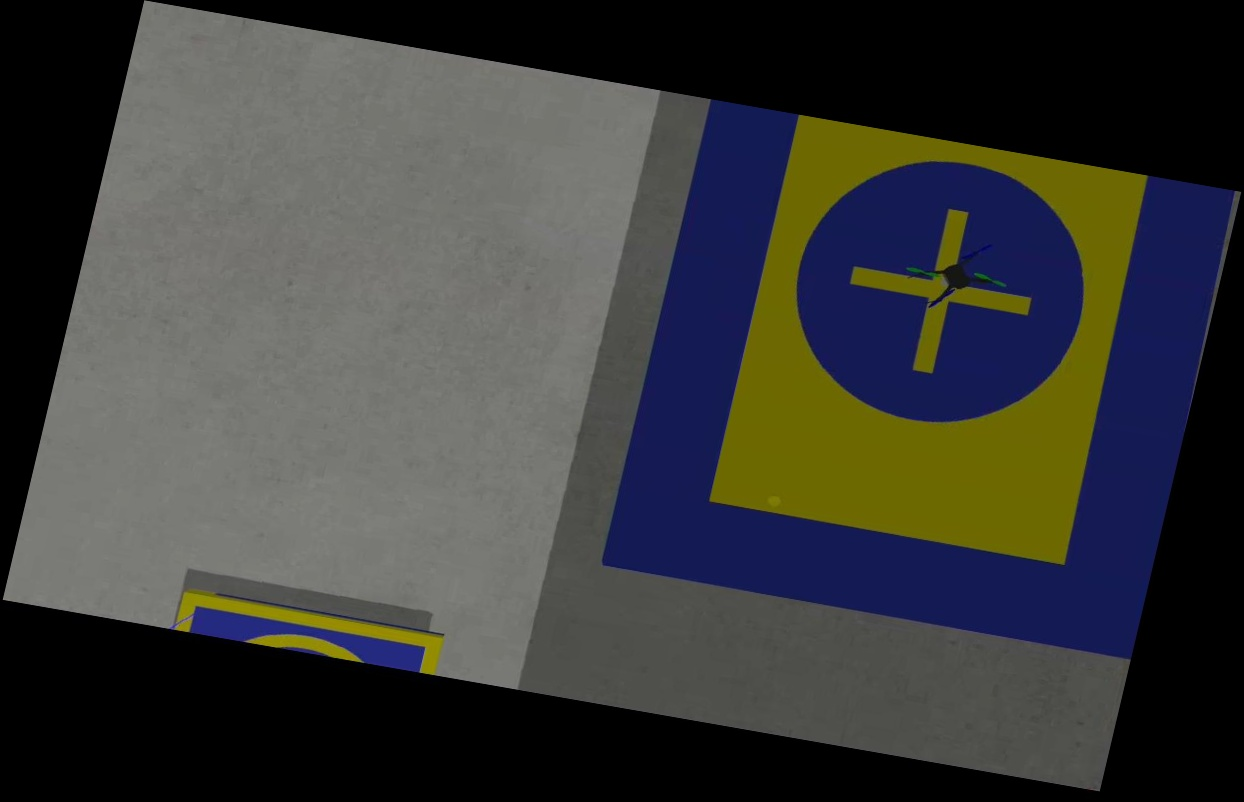large_base: (596, 98, 1244, 659)
small_base: (172, 585, 445, 678)
